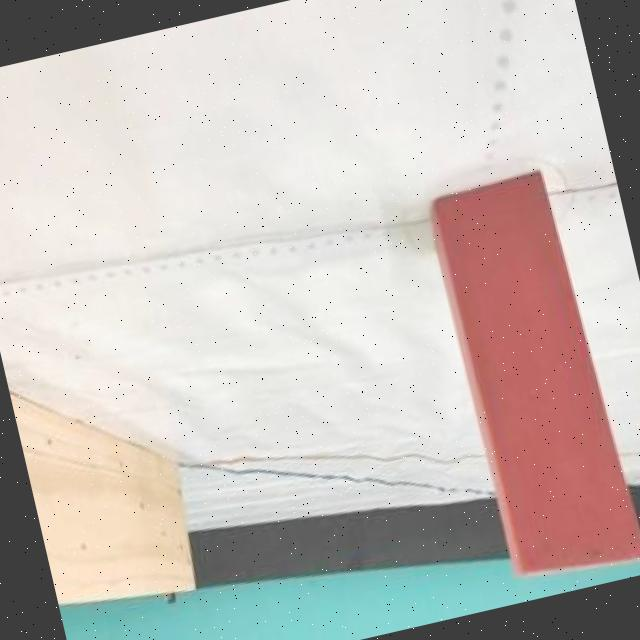redbox: (419, 163, 640, 592)
